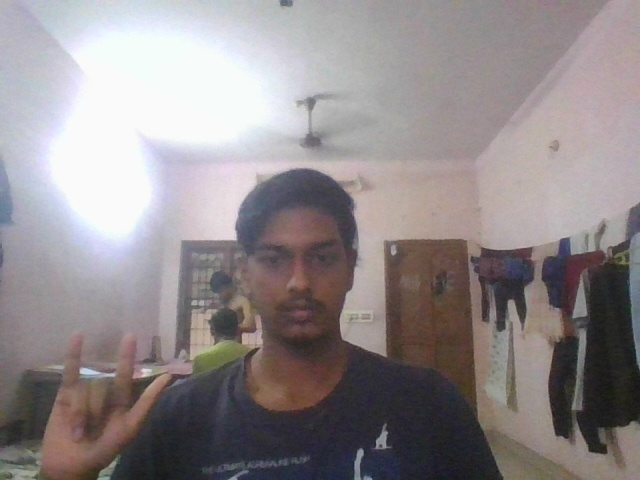iloveyou: (36, 327, 171, 480)
